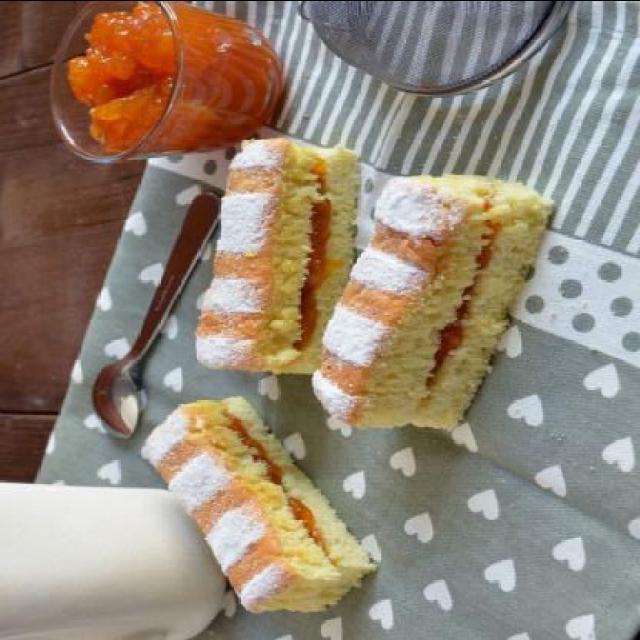Merendine packaged: (312, 168, 568, 432), (135, 388, 387, 614), (190, 136, 387, 374)
